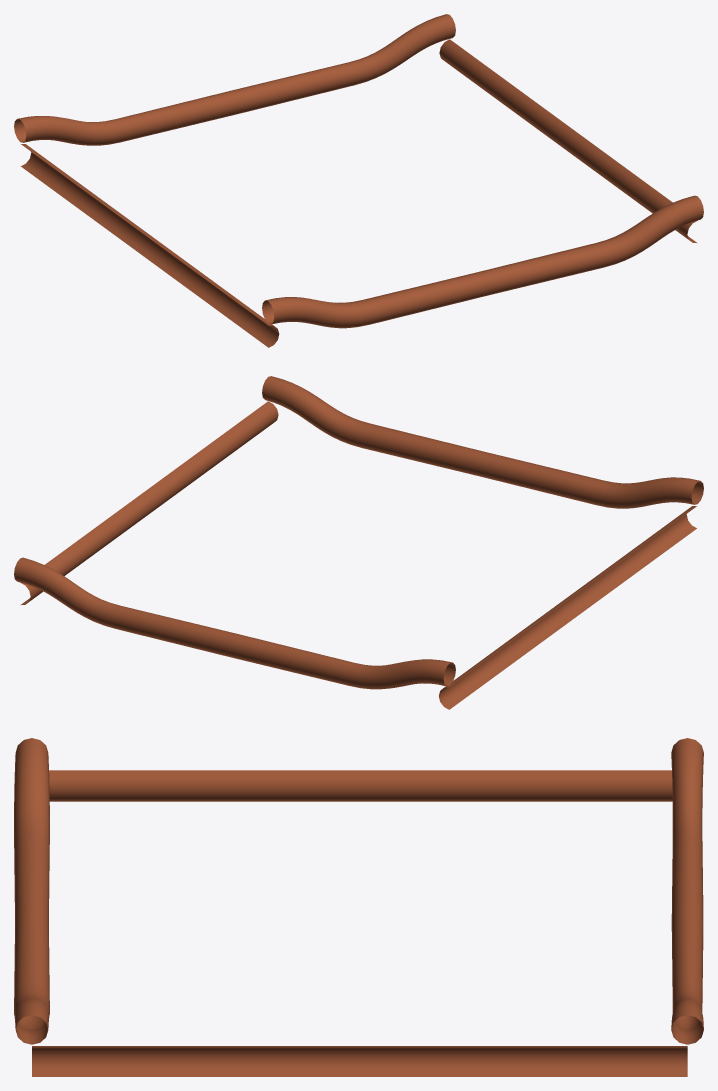
File: SM_tileSol_DoubleBordersTop.fbx
3 renders of one model, top to bottom at view 1: azimuth 30°, elevation 25°; view 2: azimuth 150°, elevation 25°; view 3: azimuth 270°, elevation 25°, orthographic. The views are drawn at different scales.
Parts seen in each view (by area): view 1: SM_tileSol_DoubleBordersTop; view 2: SM_tileSol_DoubleBordersTop; view 3: SM_tileSol_DoubleBordersTop.
Part boxes in pixels (x1,y1,x2,y2): SM_tileSol_DoubleBordersTop: (14,14,703,347); SM_tileSol_DoubleBordersTop: (14,376,703,709); SM_tileSol_DoubleBordersTop: (14,738,703,1076).
Bounding box in the file's own units: 200 × 20.84 × 210.
